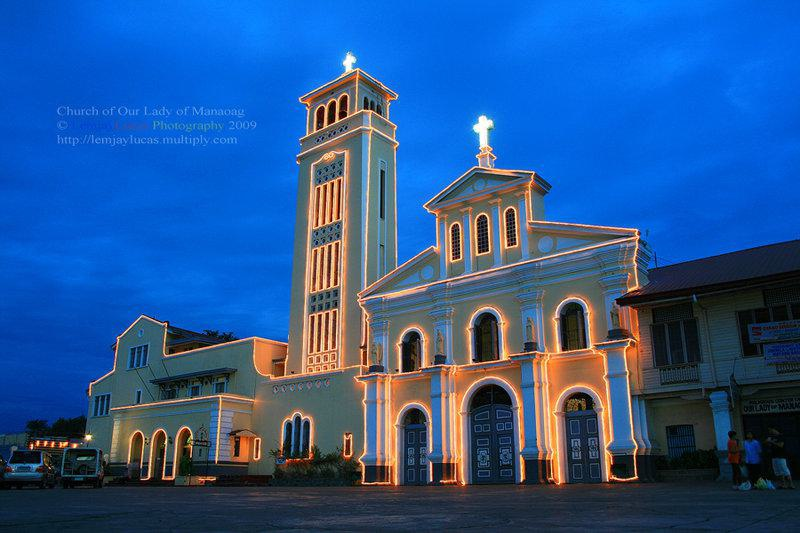manaoag_church_manaoag_pangasinan: (280, 43, 652, 490)
